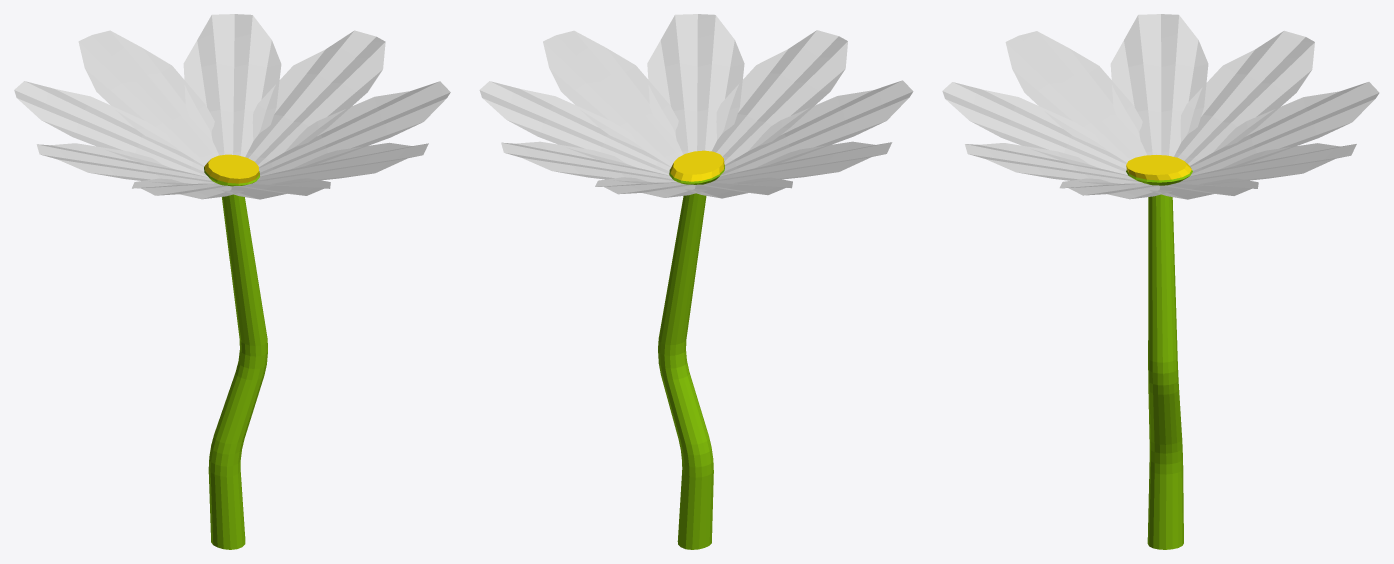
File: flowers.gltf
3 views of the same model, side by side, from view 1: azimuth 30°, elevation 25°; view 2: azimuth 150°, elevation 25°; view 3: azimuth 270°, elevation 25° (orthographic).
Visible parts, largest first — view 1: Circle, Circle.002; view 2: Circle, Circle.002; view 3: Circle, Circle.002.
Boxes of the visible parts, box(x1,y1,x2,y2) form: Circle: box(14, 14, 450, 199); Circle.002: box(204, 154, 267, 549); Circle: box(479, 14, 913, 198); Circle.002: box(658, 150, 724, 549); Circle: box(942, 14, 1379, 199); Circle.002: box(1126, 155, 1192, 549).
Bounding box in the file's own units: 8.06 × 9.05 × 8.18.
